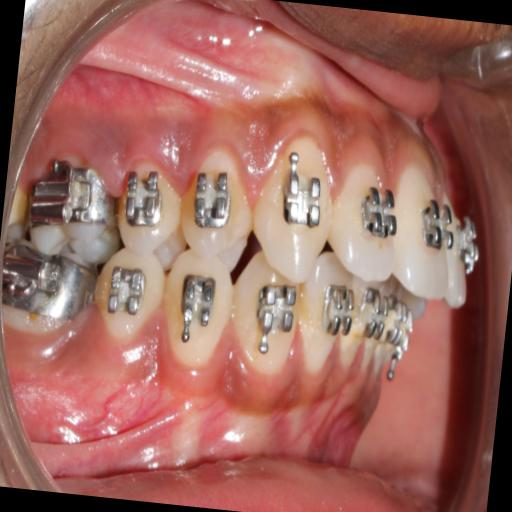correct_brace: (176, 156, 254, 273), (278, 168, 326, 228), (417, 194, 461, 259), (356, 178, 400, 238)
incorrect_brace: (327, 162, 403, 288), (189, 169, 233, 236)
